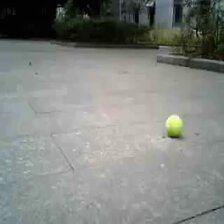tennis: (166, 115, 182, 136)
